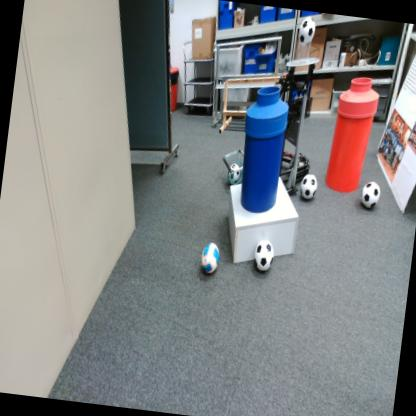ball: (252, 238, 275, 274), (359, 179, 382, 210), (199, 242, 220, 274), (298, 15, 316, 46), (300, 173, 318, 200), (227, 162, 241, 184)
